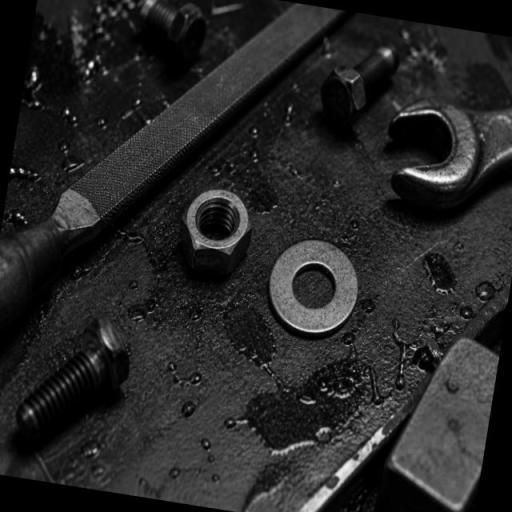Bolt: (15, 316, 131, 453), (319, 43, 400, 133), (137, 0, 208, 72)
Nut: (177, 187, 252, 280)
Washer: (267, 239, 359, 336)
